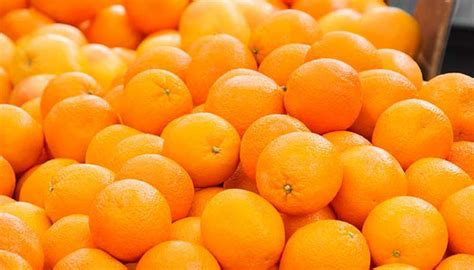orange: (253, 130, 345, 215), (161, 111, 244, 189), (281, 56, 365, 131), (118, 67, 190, 135), (39, 162, 120, 217)
